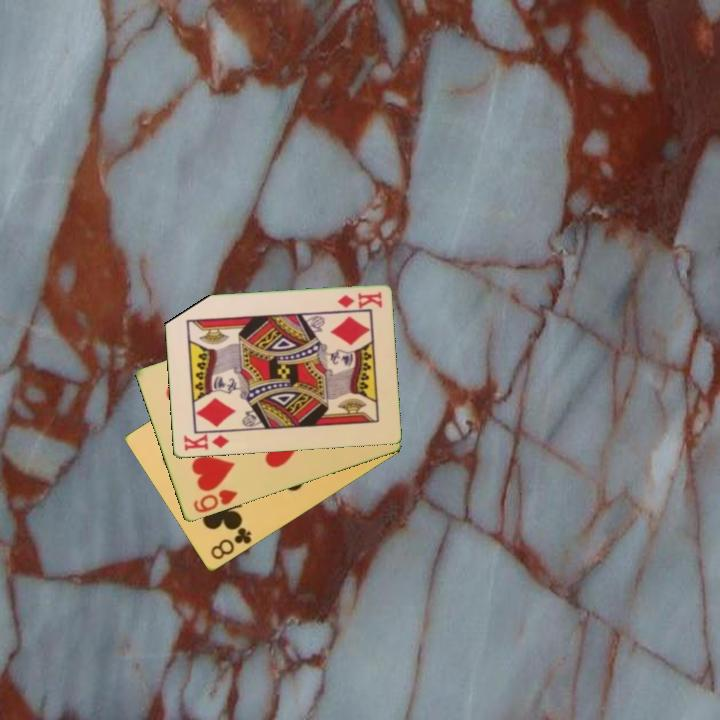6h: (190, 486, 240, 516)
8c: (207, 524, 255, 563)
Kd: (180, 431, 231, 454), (333, 289, 385, 311)
